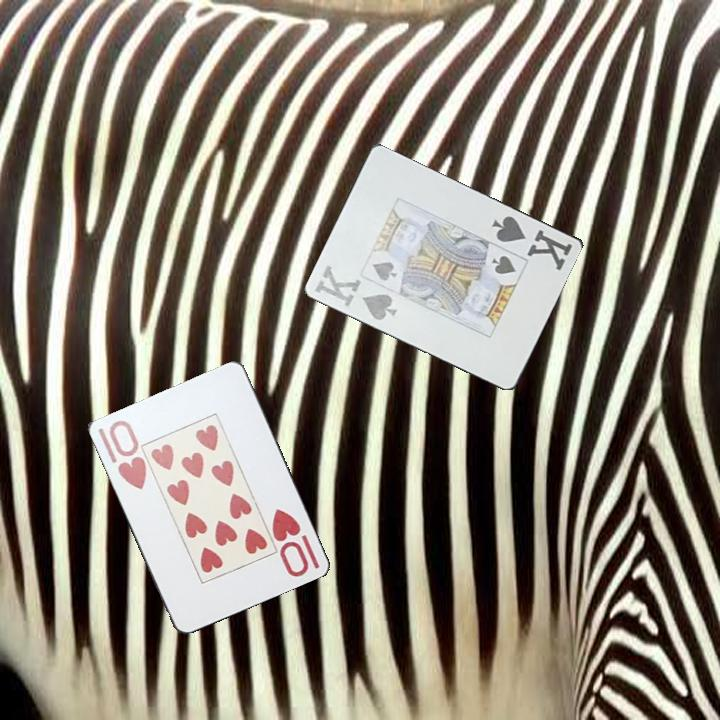Ks: (488, 212, 576, 274), (312, 261, 400, 323)
Th: (268, 505, 322, 580), (105, 416, 149, 493)
